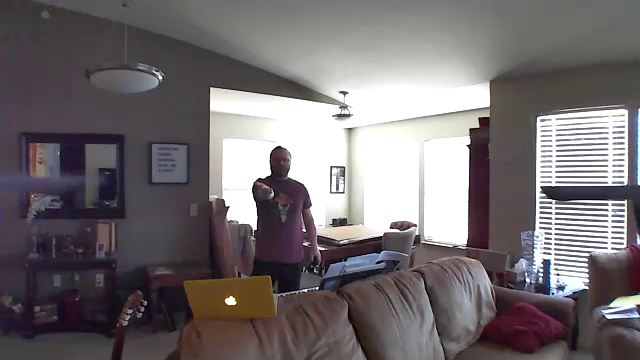land: (251, 179, 278, 200)
